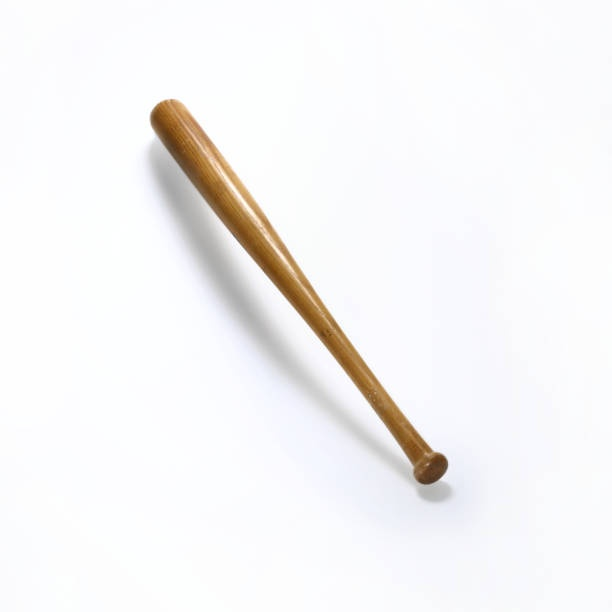bita: (149, 96, 452, 483)
